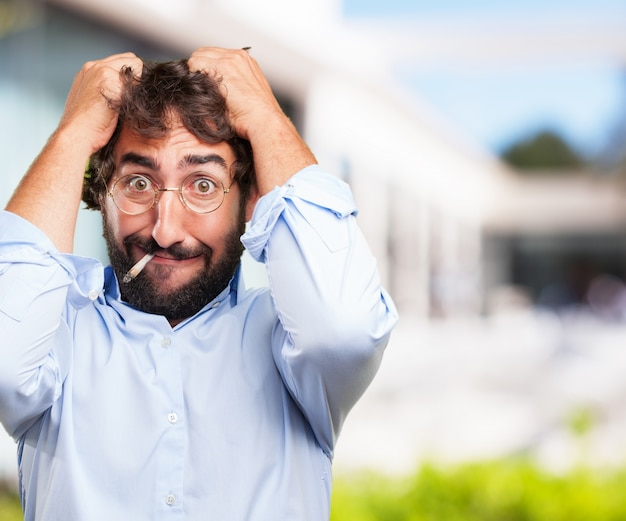cigarette: (122, 248, 152, 285)
